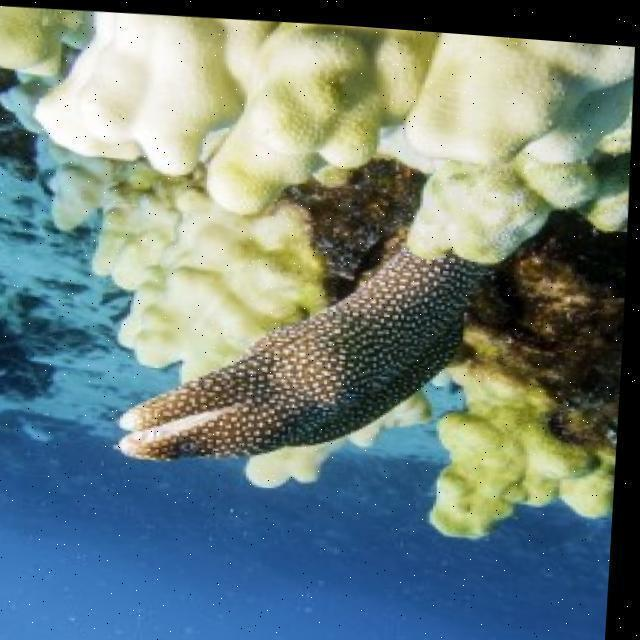Bleached Coral: (45, 3, 221, 172)
Healthy Coral: (429, 329, 626, 568)
